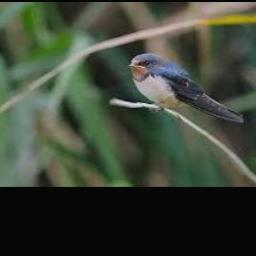Swallow: (130, 53, 248, 123)
